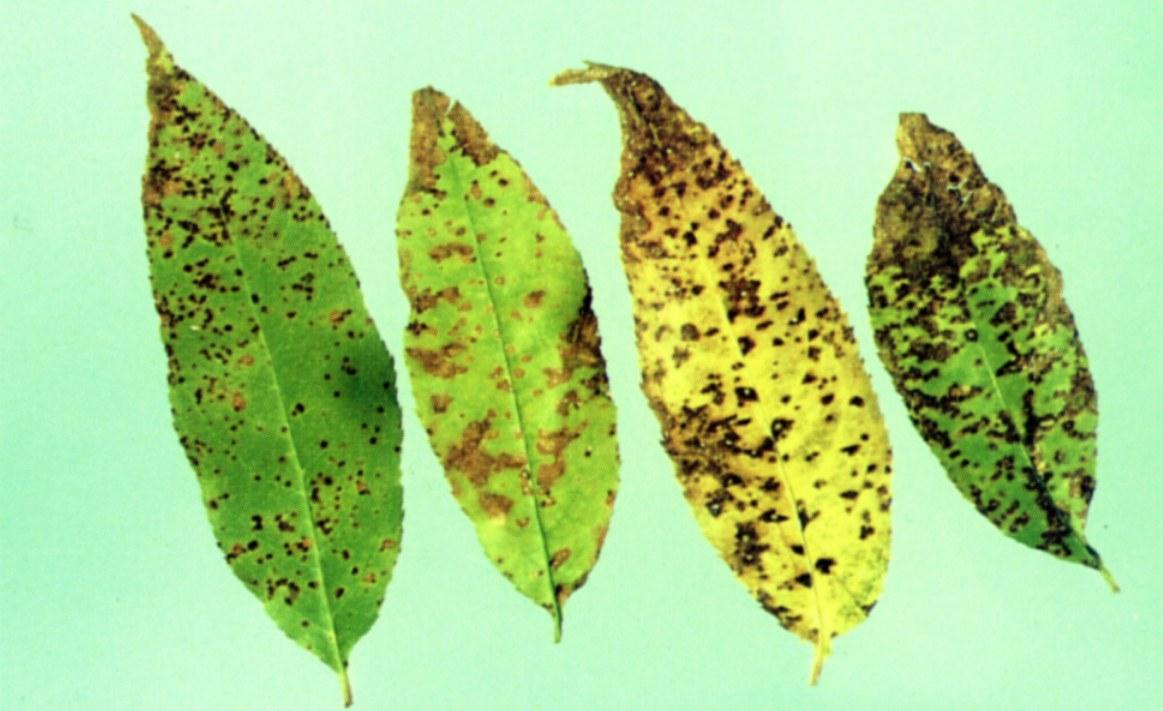black-spot: (165, 239, 396, 580)
